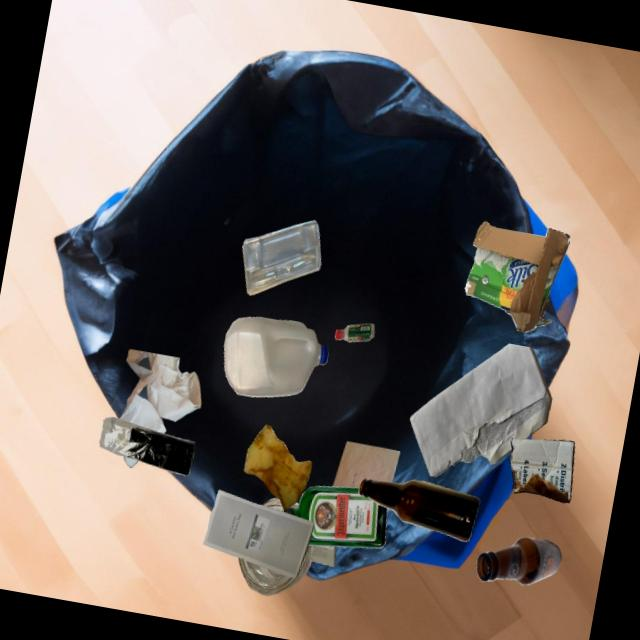biowaste: (244, 424, 311, 510)
cardboard: (464, 221, 570, 332), (509, 438, 574, 502), (311, 545, 336, 566)
glass: (358, 478, 480, 541), (281, 486, 387, 548), (476, 537, 561, 585), (237, 544, 313, 595), (283, 501, 308, 544)
paper: (409, 343, 551, 477), (202, 489, 314, 578), (118, 349, 201, 433), (331, 441, 400, 487)
plastic: (224, 317, 328, 397), (242, 220, 320, 295), (99, 417, 194, 475), (335, 323, 374, 342)
